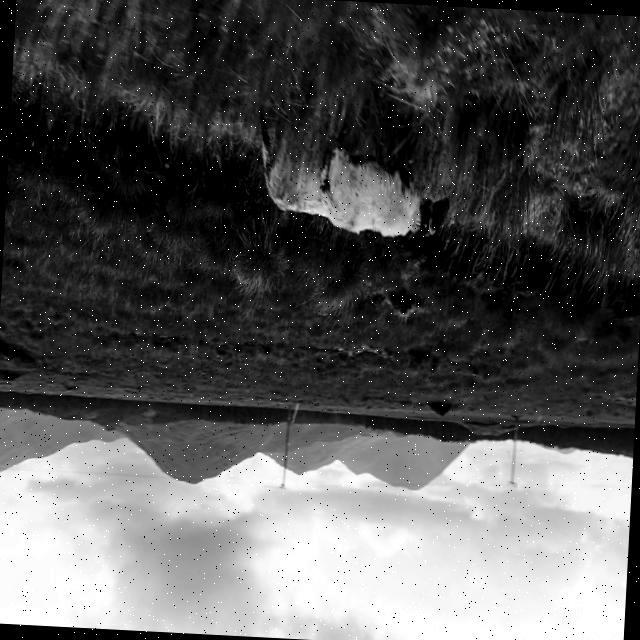sheep: (318, 150, 449, 238), (260, 130, 326, 216)
